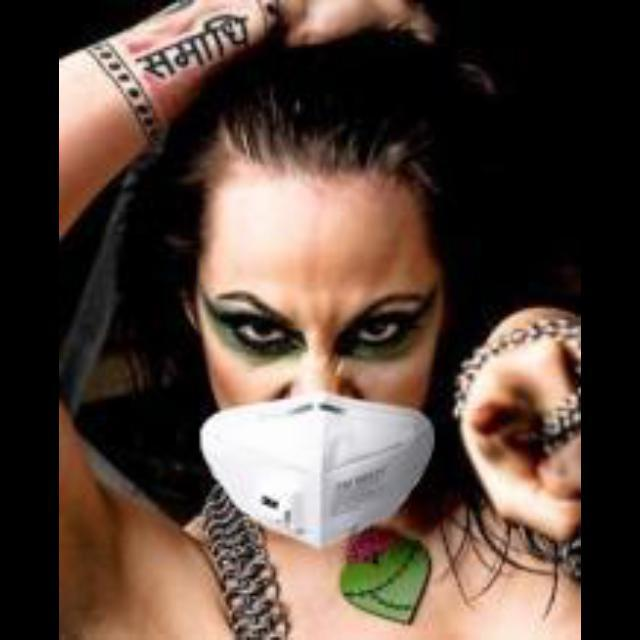suspicion: (154, 91, 466, 513)
